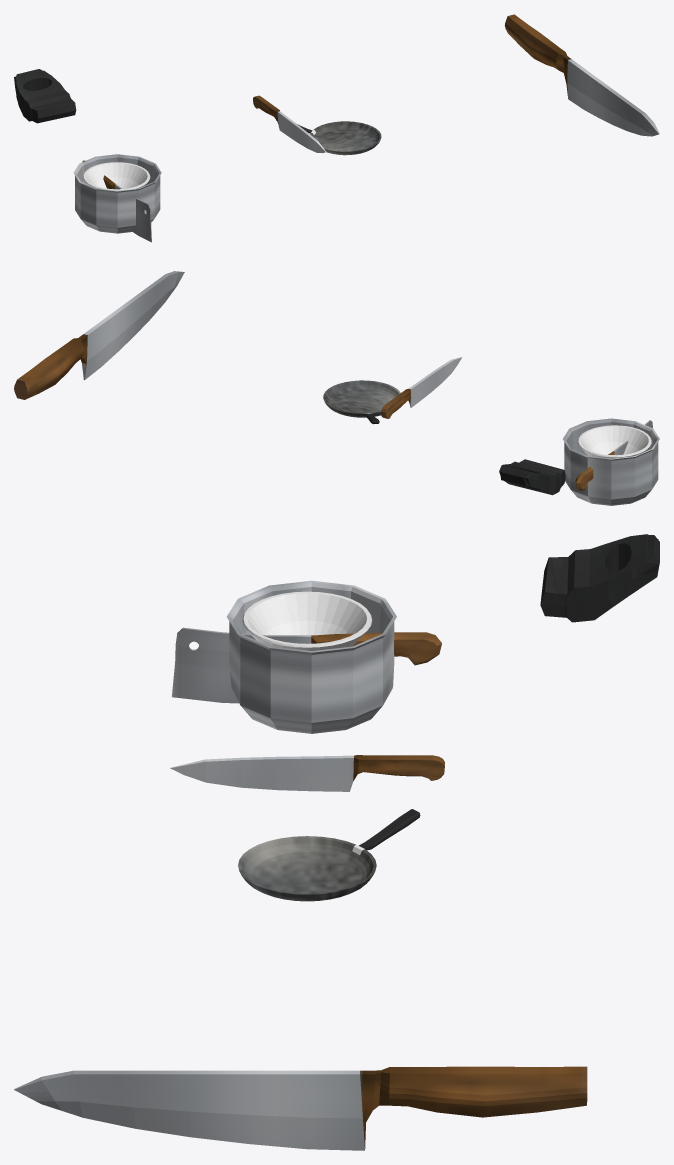
The model's file is low-poly-kitchen-assets-254d6d.glb.
3 views of the same model, one above another, from view 1: azimuth 30°, elevation 25°; view 2: azimuth 150°, elevation 25°; view 3: azimuth 270°, elevation 25° (orthographic). The views are drawn at different scales.
Parts seen in each view (by area): view 1: PropMesh; view 2: PropMesh; view 3: PropMesh.
Boxes of the visible parts, x1,y1,x2,y2 form: PropMesh: (14, 14, 659, 242); PropMesh: (14, 271, 659, 505); PropMesh: (14, 534, 659, 1150).
Bounding box in the file's own units: 13.62 × 2.2 × 7.73.
1 material, 1 textured.
